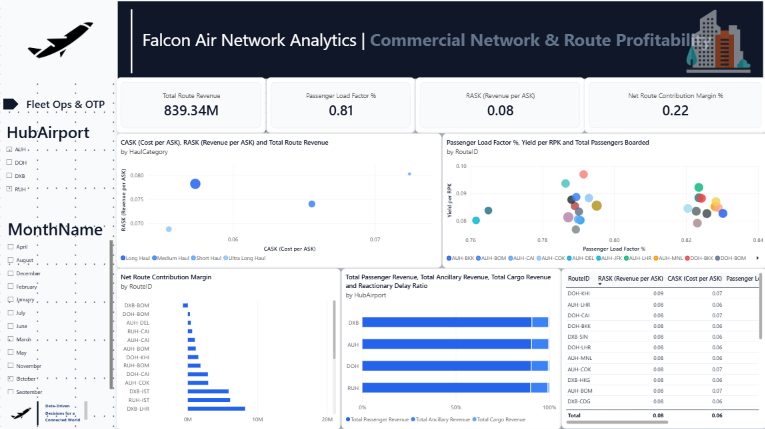

What the dashboard file says about the page in this screenshot:
{"tool":"powerbi","page":{"name":"Commercial Network & Route Profitability","canvas":[1920,1080],"ordinal":1},"visuals":[{"type":"shape","box":[0,189.4,306.6,892],"z":0},{"type":"image","box":[0,1000.5,109.3,80.1],"z":1000},{"type":"shape","box":[292.7,340.5,1626.7,738.7],"z":2000},{"type":"shape","box":[0,1000.5,191.8,80.1],"z":3000},{"type":"shape","box":[0,0,1919.3,213],"z":4000},{"type":"cardVisual","fields":{"Data":["Fact_RouteFinancials.Total Route Revenue"]},"box":[292.7,201.1,374.3,139.4],"z":5000},{"type":"cardVisual","fields":{"Data":["Fact_RouteFinancials.Passenger Load Factor %"]},"box":[667,201.1,372.3,139.4],"z":6000},{"type":"cardVisual","fields":{"Data":["Fact_RouteFinancials.RASK (Revenue per ASK)"]},"box":[1039.3,201.1,424.1,139.4],"z":7000},{"type":"cardVisual","fields":{"Data":["Fact_RouteFinancials.Net Route Contribution Margin %"]},"box":[1463.4,201.1,455.9,139.4],"z":8000},{"type":"scatterChart","fields":{"X":["Fact_RouteFinancials.CASK (Cost per ASK)"],"Y":["Fact_RouteFinancials.RASK (Revenue per ASK)"],"Size":["Fact_RouteFinancials.Total Route Revenue"],"Series":["Dim_Route.HaulCategory"]},"box":[291.9,339.5,813.1,336.5],"z":9000},{"type":"scatterChart","fields":{"X":["Fact_RouteFinancials.Passenger Load Factor %"],"Y":["Fact_RouteFinancials.Yield per RPK"],"Size":["Fact_Flights.Total Passengers Boarded"],"Series":["Dim_Route.RouteID"]},"box":[1106.7,339.1,813.9,337.4],"z":10000},{"type":"clusteredBarChart","fields":{"Y":["Fact_RouteFinancials.Net Route Contribution Margin"],"Category":["Dim_Route.RouteID"]},"box":[292.7,676.5,560.5,403.4],"z":11000},{"type":"hundredPercentStackedBarChart","fields":{"Category":["Dim_Route.HubAirport"],"Y":["Fact_RouteFinancials.Total Passenger Revenue","Fact_RouteFinancials.Total Ancillary Revenue","Fact_RouteFinancials.Total Cargo Revenue"]},"box":[855,677.4,549.4,402.7],"z":12000},{"type":"tableEx","fields":{"Values":["Dim_Route.RouteID","Fact_RouteFinancials.RASK (Revenue per ASK)","Fact_RouteFinancials.CASK (Cost per ASK)","Fact_RouteFinancials.Passenger Load Factor %","Fact_RouteFinancials.Yield per RPK","Fact_RouteFinancials.Net Route Contribution Margin %"]},"box":[1404.4,677.4,514.2,400.7],"z":13000},{"type":"slicer","fields":{"Values":["Dim_Route.HubAirport"]},"box":[0,298.7,291.4,240.4],"z":14000},{"type":"slicer","fields":{"Values":["Dim_Date.MonthName"]},"box":[2.4,539.1,291.4,461.4],"z":15000},{"type":"image","box":[0,0,306,213.7],"z":16000},{"type":"shape","box":[179.7,19.4,301.1,179.7],"z":17000},{"type":"actionButton","title":"Fleet Ops & OTP","box":[58.3,238,225.8,58.3],"z":19000},{"type":"textbox","box":[347.3,65.6,1527.4,167.6],"z":19500},{"type":"shape","box":[0,242.8,58.3,48.6],"z":20000},{"type":"image","box":[1692.5,20,210,180],"z":21000},{"type":"textbox","box":[105,1000,125,70],"z":22000}]}

Visuals, with their boxes in screenshot pixels (x1, y1, x2, y2), scaled from the page's 1920x1080 canvas onto the 765x429 screenshot:
shape: <box>0,75,122,428</box>
image: <box>0,397,44,428</box>
shape: <box>117,135,764,428</box>
shape: <box>0,397,76,428</box>
shape: <box>0,0,764,85</box>
cardVisual - Fact_RouteFinancials.Total Route Revenue: <box>117,80,266,135</box>
cardVisual - Fact_RouteFinancials.Passenger Load Factor %: <box>266,80,414,135</box>
cardVisual - Fact_RouteFinancials.RASK (Revenue per ASK): <box>414,80,583,135</box>
cardVisual - Fact_RouteFinancials.Net Route Contribution Margin %: <box>583,80,764,135</box>
scatterChart - Fact_RouteFinancials.CASK (Cost per ASK) x Fact_RouteFinancials.RASK (Revenue per ASK): <box>116,135,440,269</box>
scatterChart - Fact_RouteFinancials.Passenger Load Factor % x Fact_RouteFinancials.Yield per RPK: <box>441,135,764,269</box>
clusteredBarChart - Fact_RouteFinancials.Net Route Contribution Margin x Dim_Route.RouteID: <box>117,269,340,428</box>
hundredPercentStackedBarChart - Dim_Route.HubAirport x Fact_RouteFinancials.Total Passenger Revenue: <box>341,269,560,428</box>
tableEx - Dim_Route.RouteID x Fact_RouteFinancials.RASK (Revenue per ASK): <box>560,269,764,428</box>
slicer - Dim_Route.HubAirport: <box>0,119,116,214</box>
slicer - Dim_Date.MonthName: <box>1,214,117,397</box>
image: <box>0,0,122,85</box>
shape: <box>72,8,192,79</box>
"Fleet Ops & OTP" actionButton: <box>23,95,113,118</box>
textbox: <box>138,26,747,93</box>
shape: <box>0,96,23,116</box>
image: <box>674,8,758,79</box>
textbox: <box>42,397,92,425</box>
